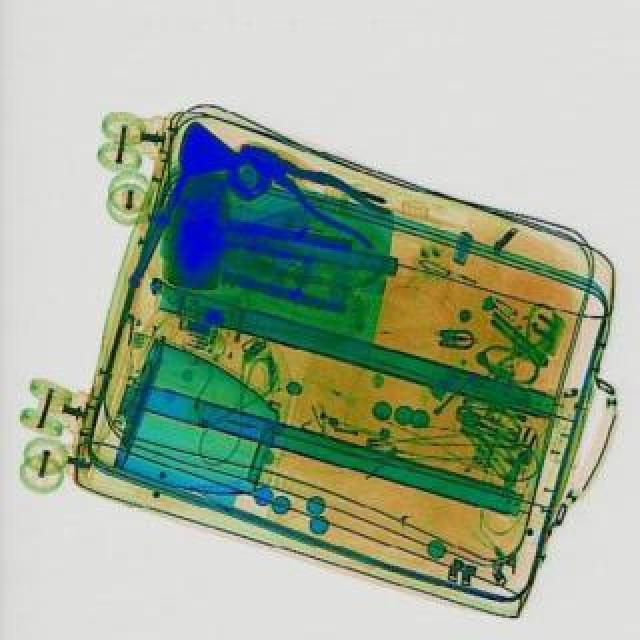wrench: (228, 128, 398, 250)
